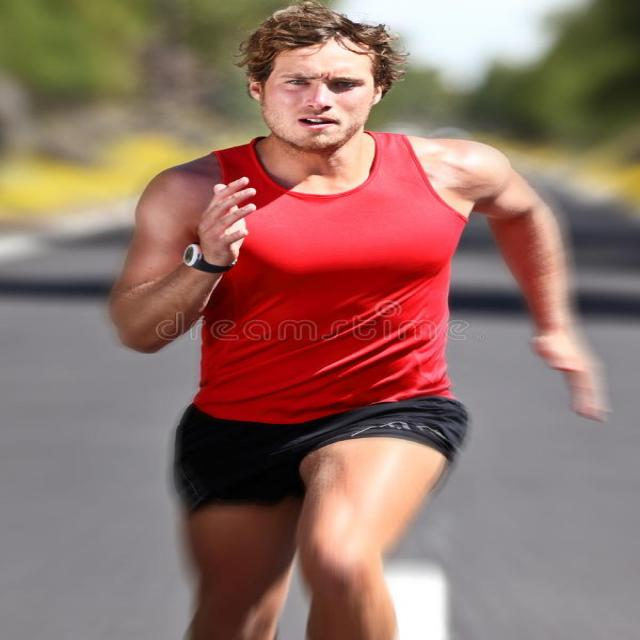running: (109, 2, 608, 640)
